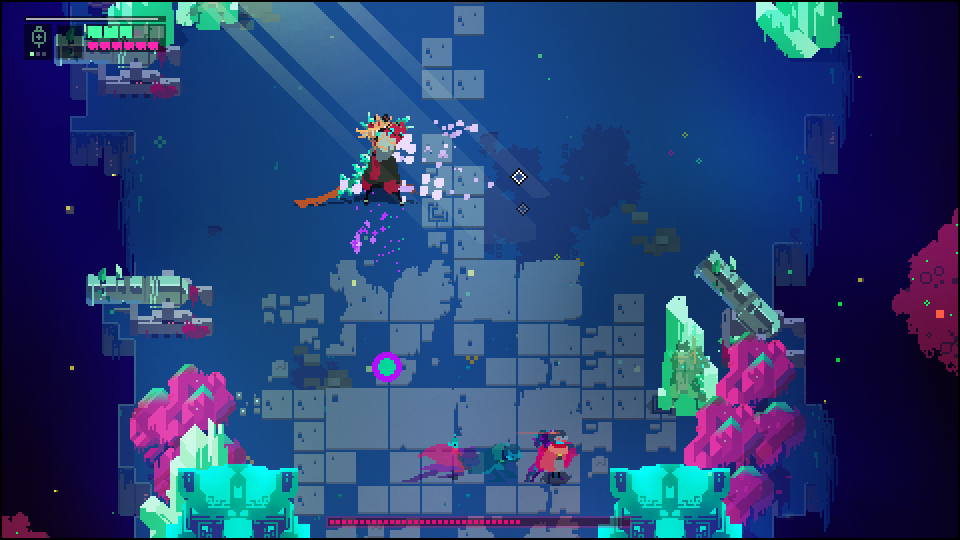hanged_man: (329, 108, 418, 215)
hanged_shot: (372, 350, 403, 383)
player: (539, 429, 569, 484)
